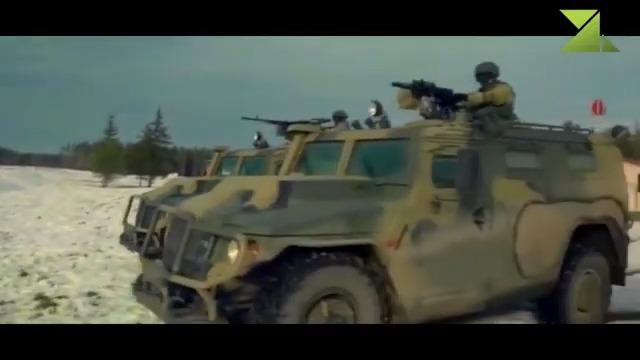MIL_HMMWV: (131, 112, 633, 324), (459, 61, 519, 108)
